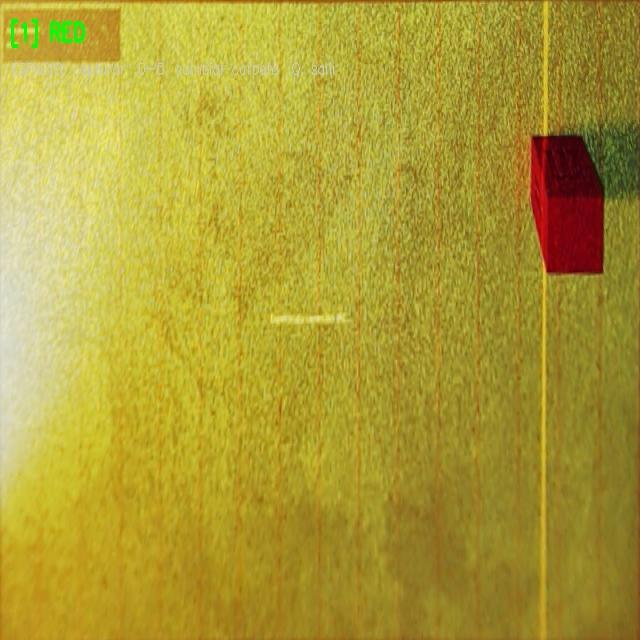red: (530, 136, 602, 272)
